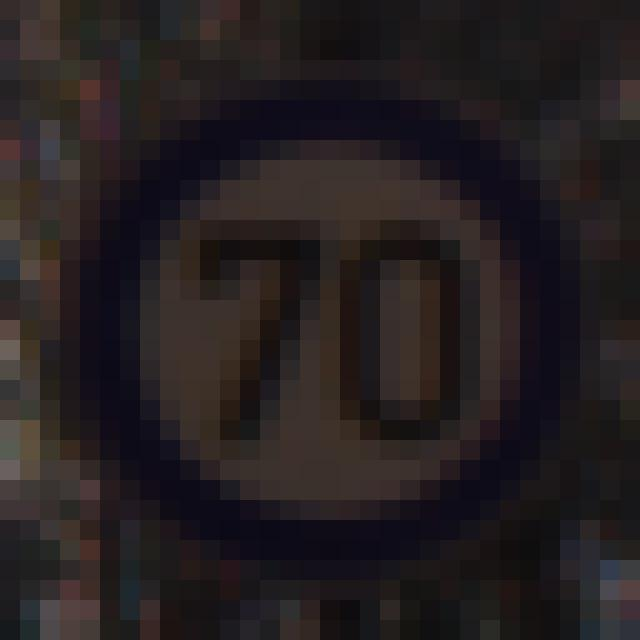SPEED LIMIT 70: (82, 89, 578, 566)
